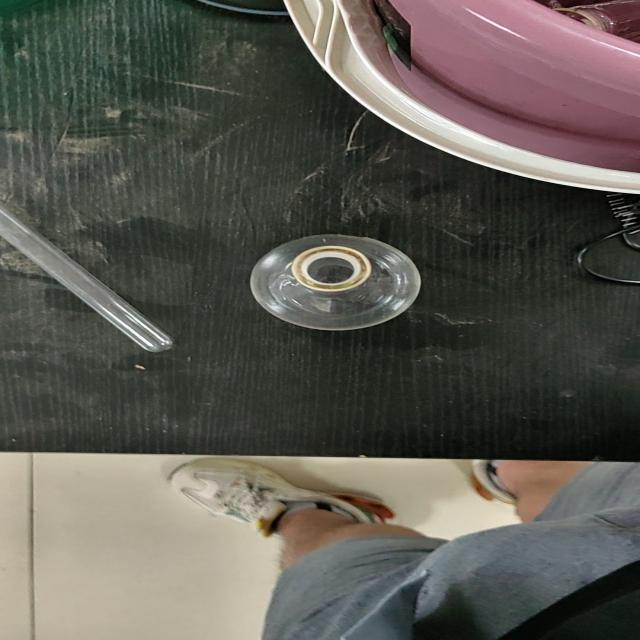bottles: (167, 456, 395, 538)
cardboard: (0, 0, 638, 457)
cups: (248, 232, 421, 331)
